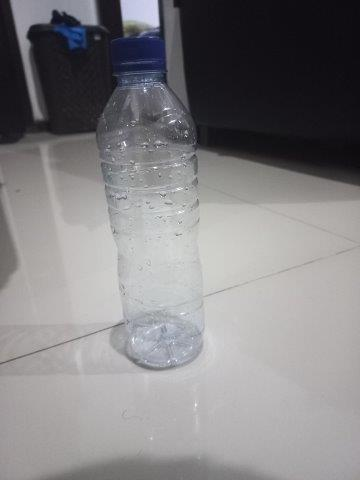botolplastik: (93, 38, 206, 368)
